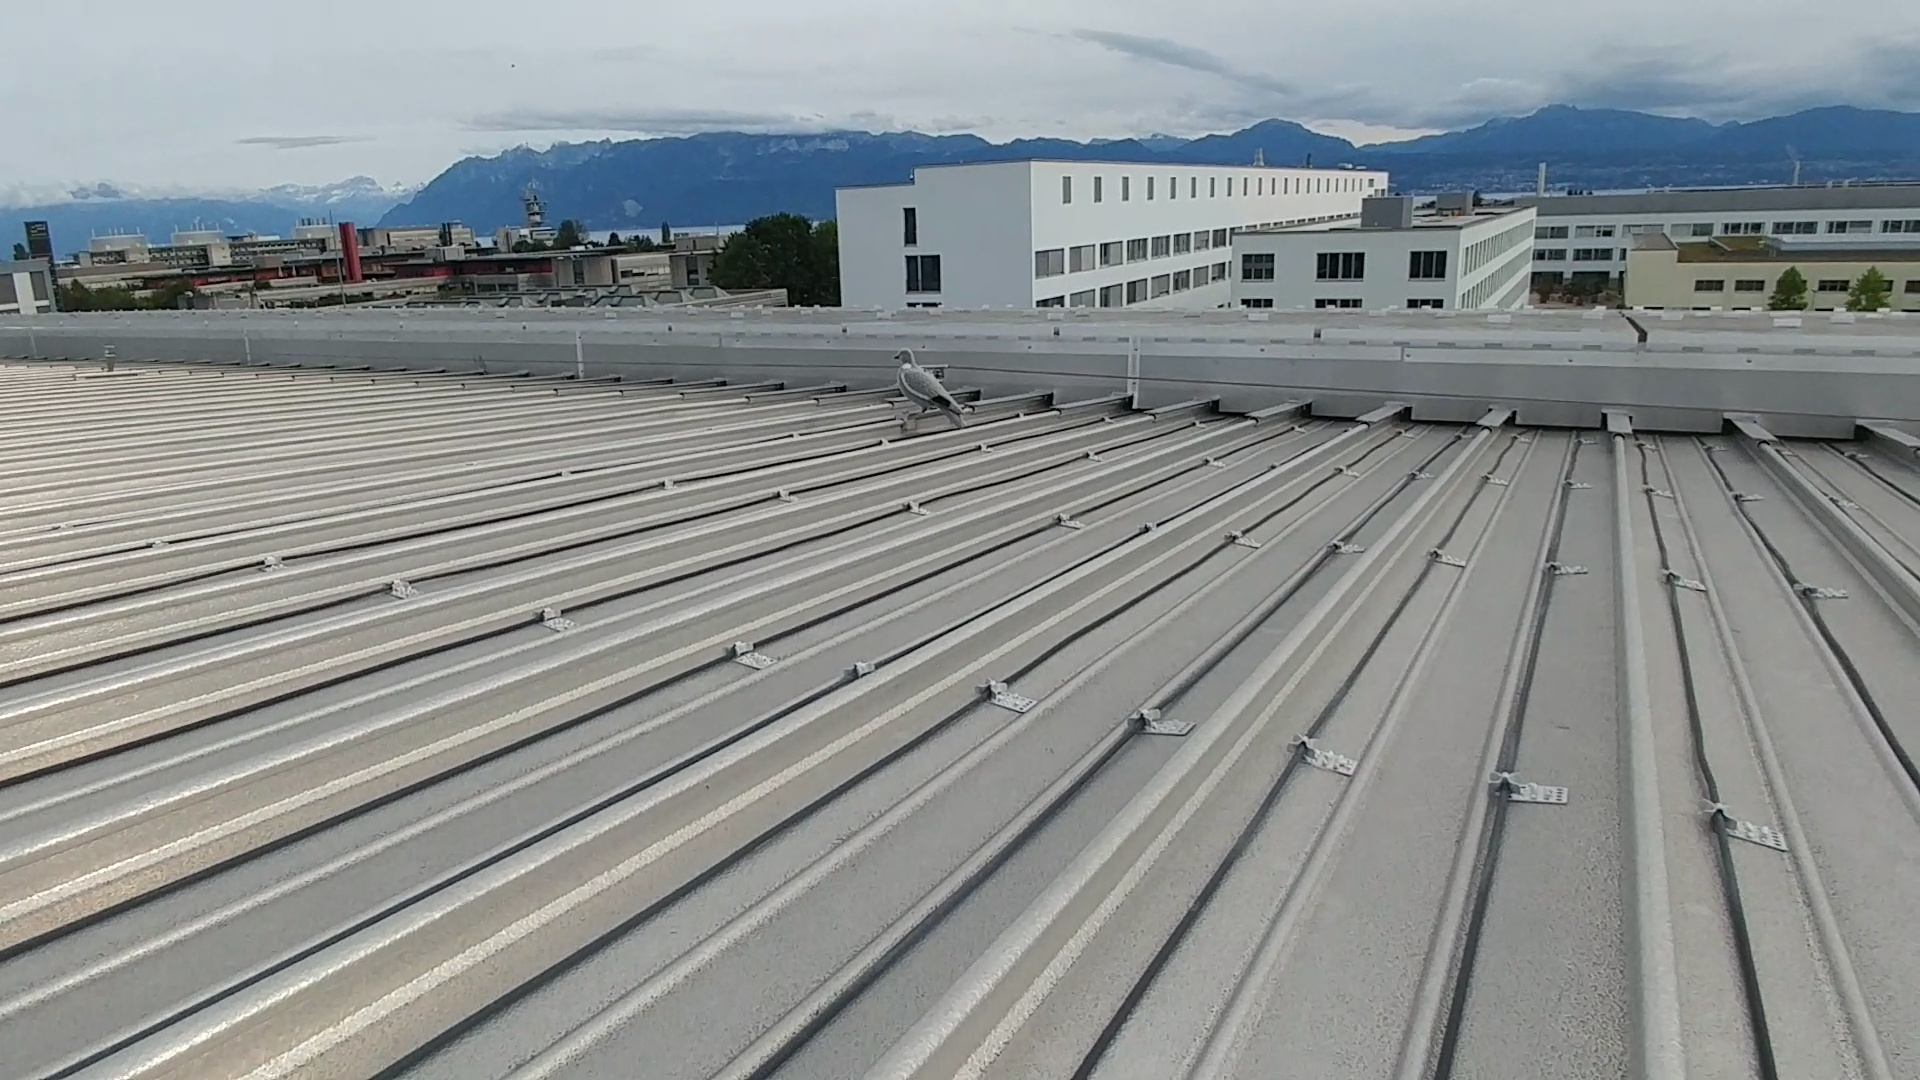Pigeon: (885, 345, 968, 418)
